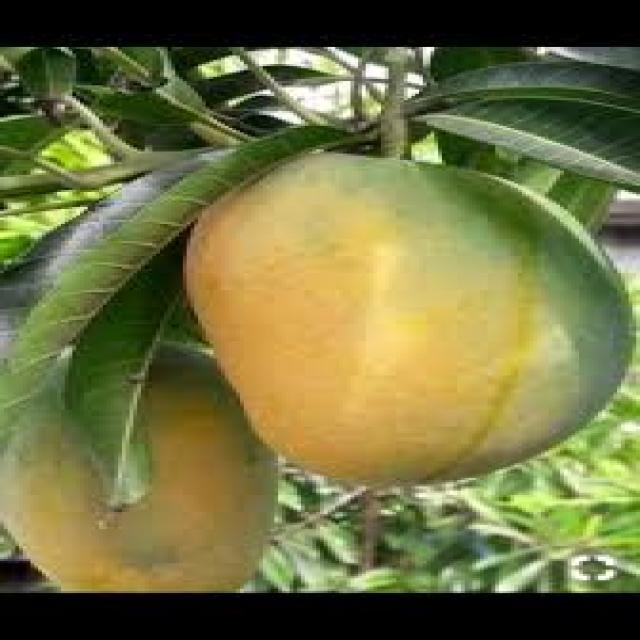mango: (187, 154, 636, 491)
